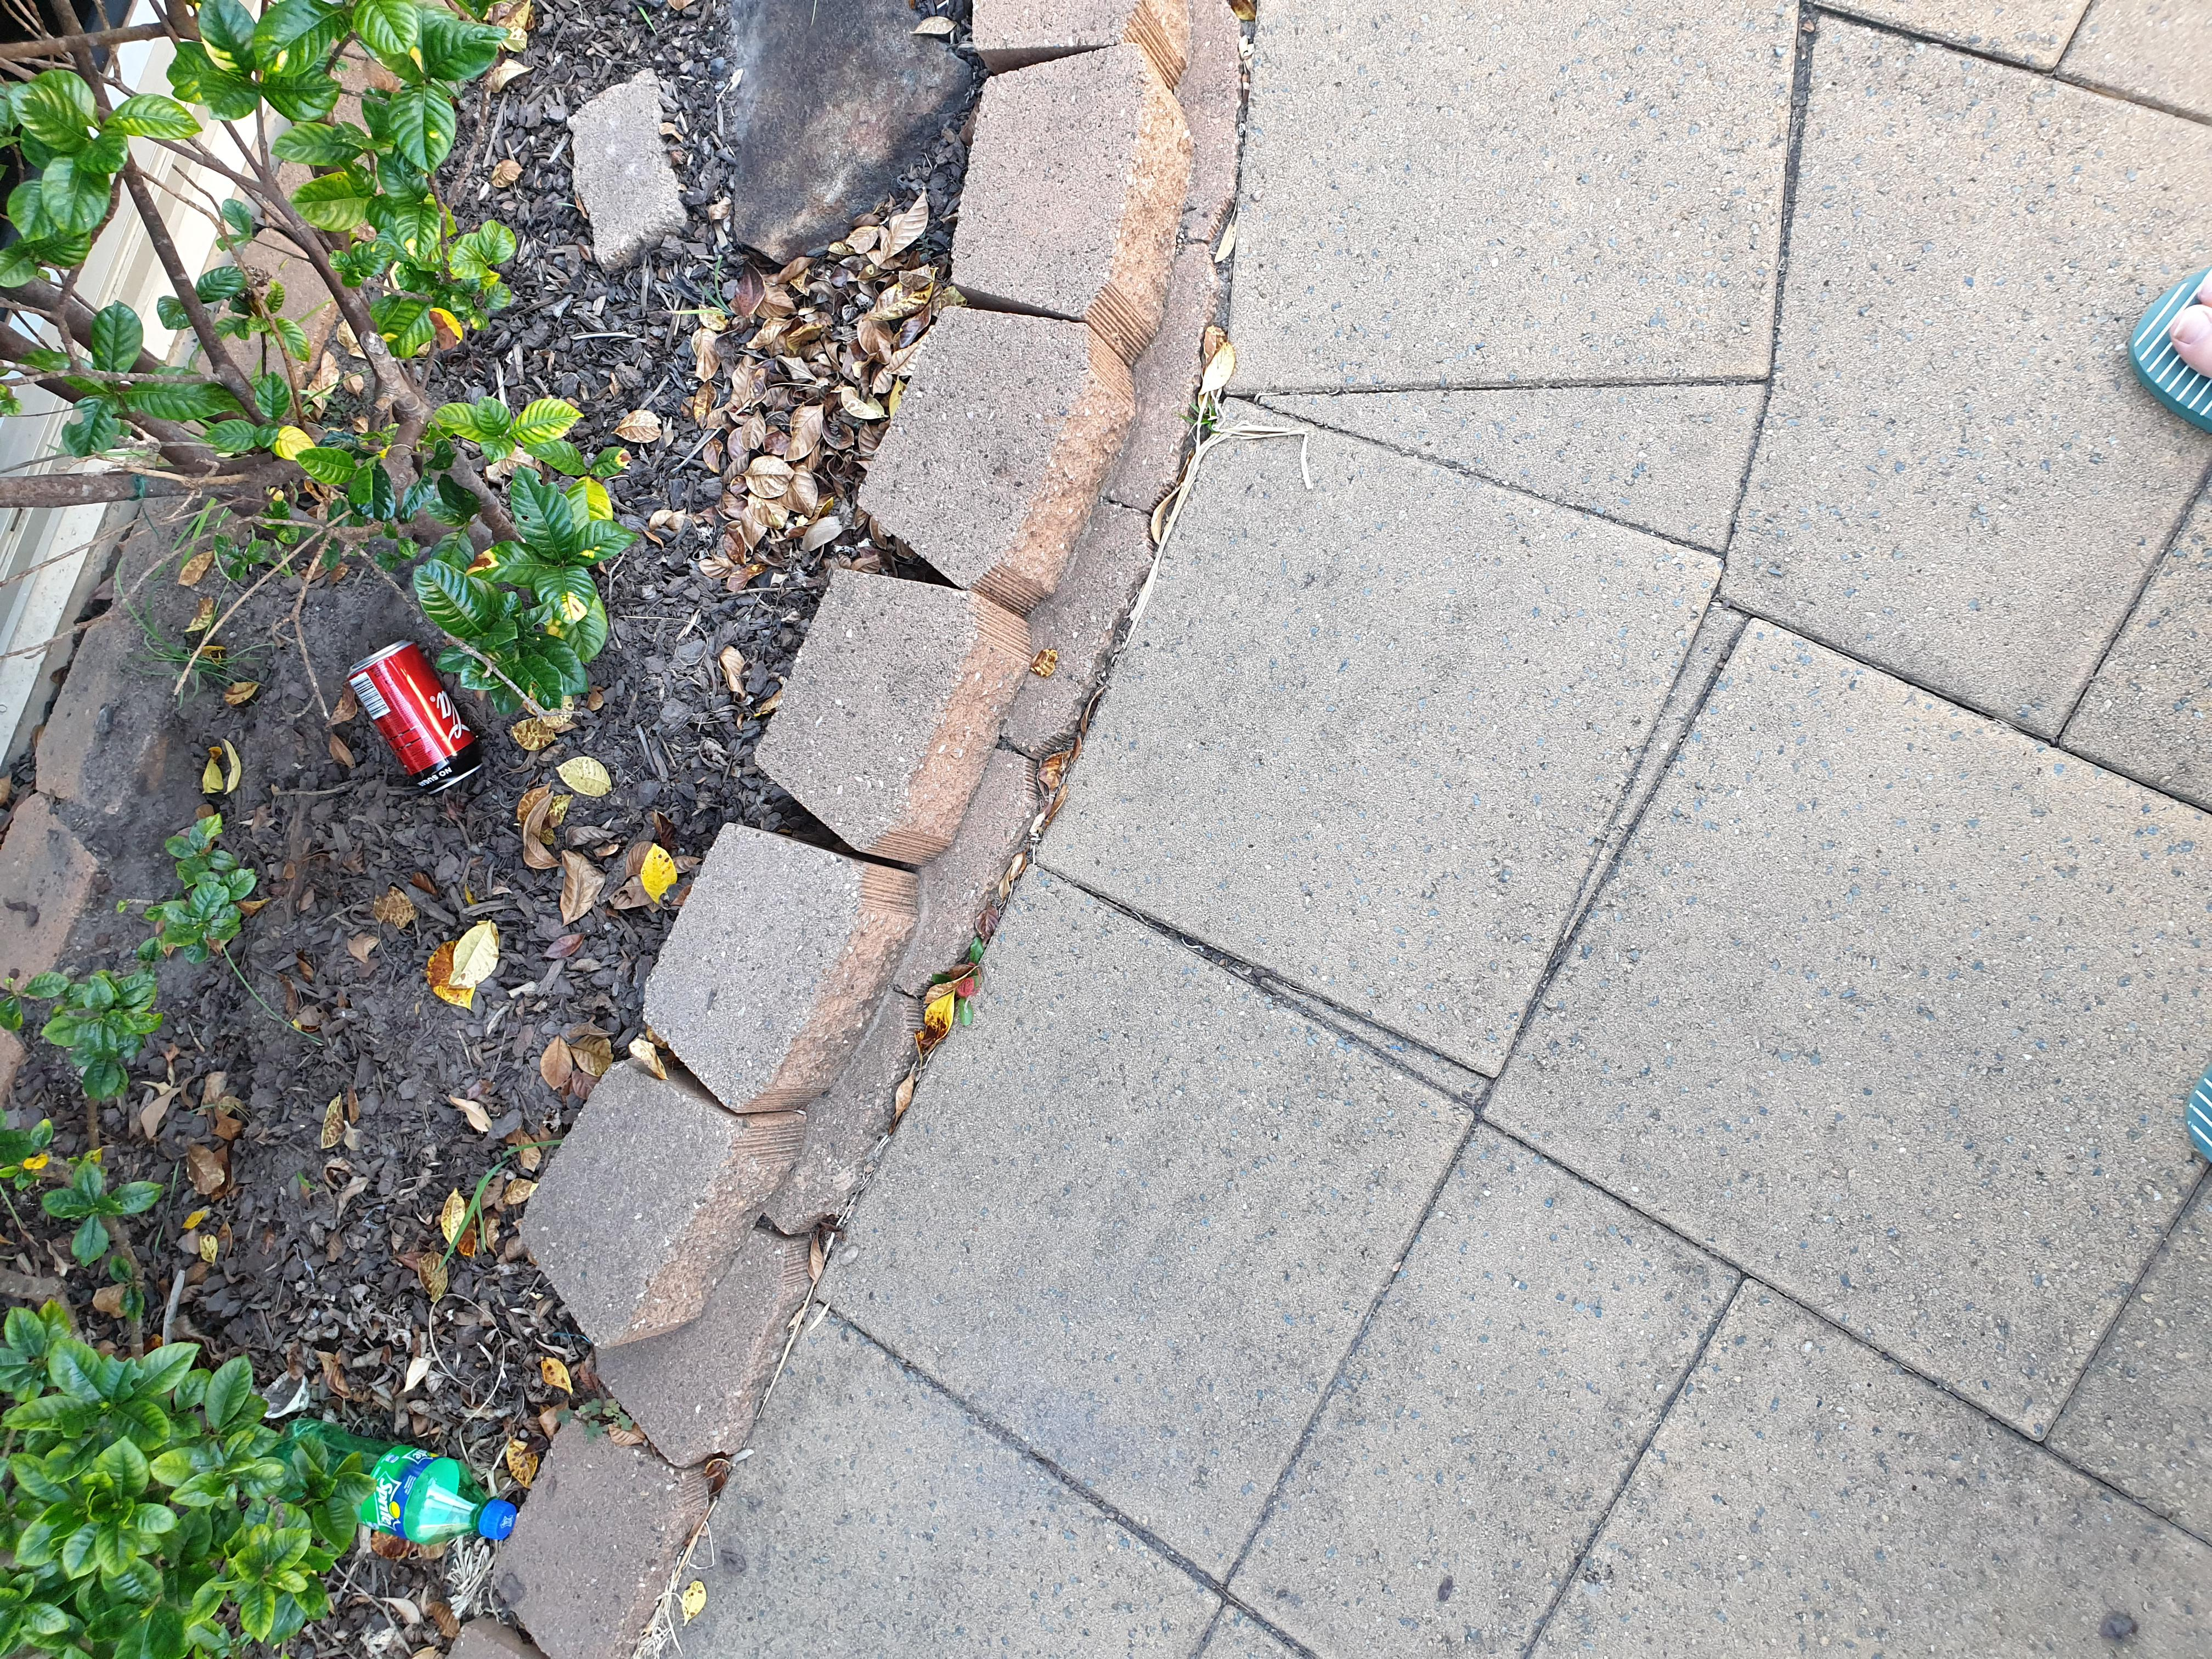Plastic Bottle: (284, 1413, 514, 1541), (347, 640, 482, 795)
